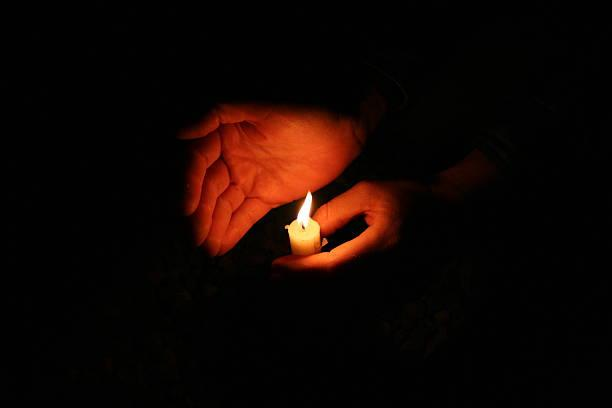Fire: (297, 190, 313, 232)
